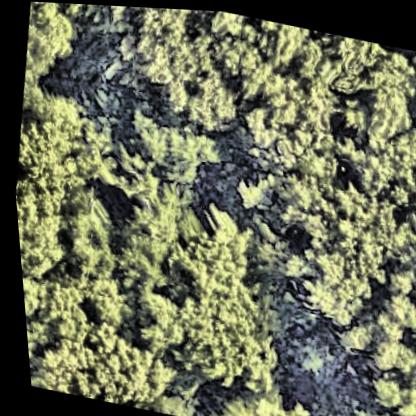tree-top: (222, 160, 384, 325), (222, 25, 357, 176), (99, 4, 235, 106), (164, 259, 271, 388), (7, 83, 93, 197), (104, 194, 198, 291), (77, 327, 180, 415), (129, 115, 226, 193), (47, 189, 124, 282), (346, 45, 416, 142), (60, 131, 154, 202), (18, 1, 88, 85), (12, 187, 69, 283), (25, 335, 99, 399), (65, 267, 133, 336), (125, 278, 183, 355), (195, 381, 312, 416), (281, 329, 342, 390), (367, 197, 416, 272), (383, 119, 416, 218), (354, 364, 411, 415), (366, 324, 416, 376), (372, 283, 416, 331), (329, 315, 371, 358), (17, 273, 47, 324), (334, 95, 371, 134), (37, 2, 109, 22), (141, 392, 192, 416), (207, 8, 249, 37), (381, 261, 414, 297), (341, 403, 404, 416), (407, 59, 416, 126), (409, 260, 416, 300)
